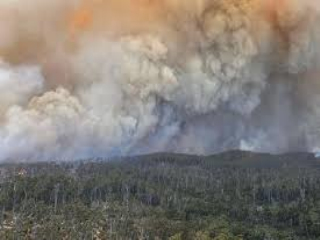smoke: (8, 40, 220, 156), (209, 6, 318, 155)
